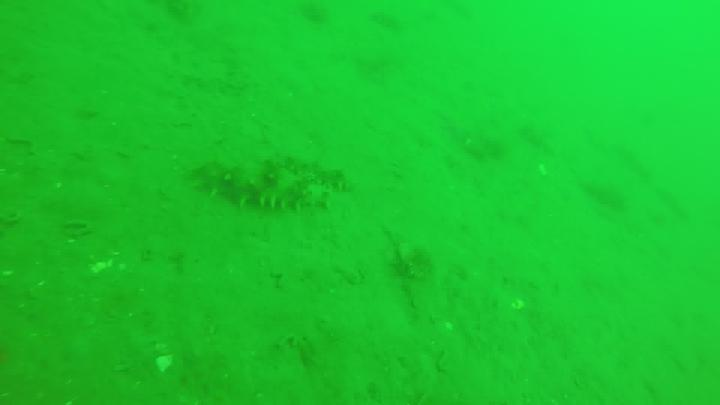holothurian: (202, 152, 348, 207)
